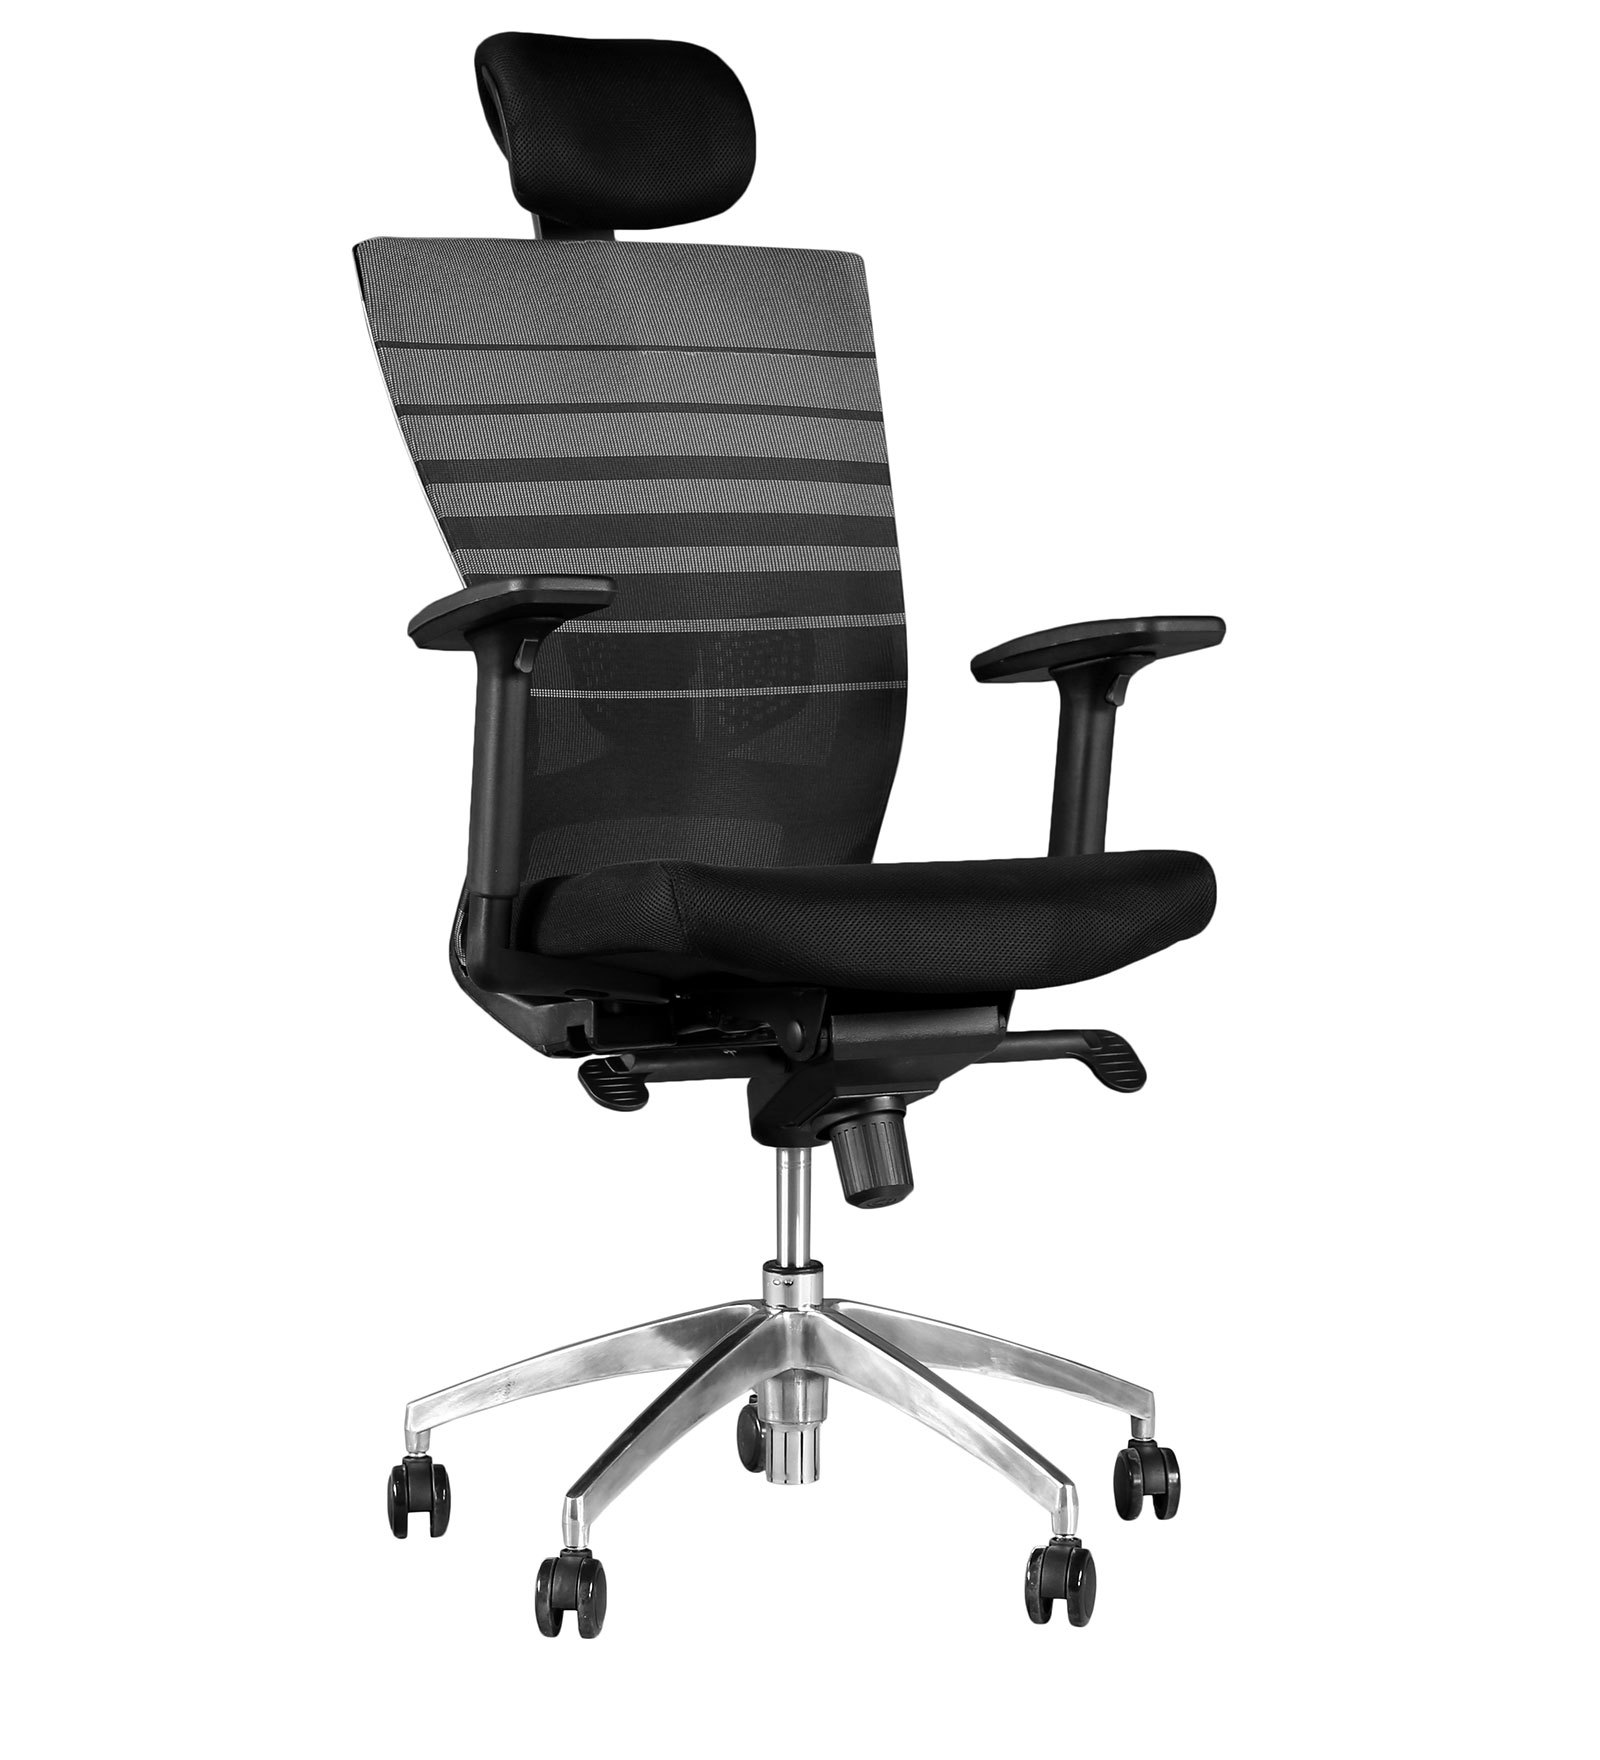Ergo High Back Ergonomic Chair in Black Colour by HomeTown: (307, 17, 1248, 1709)
